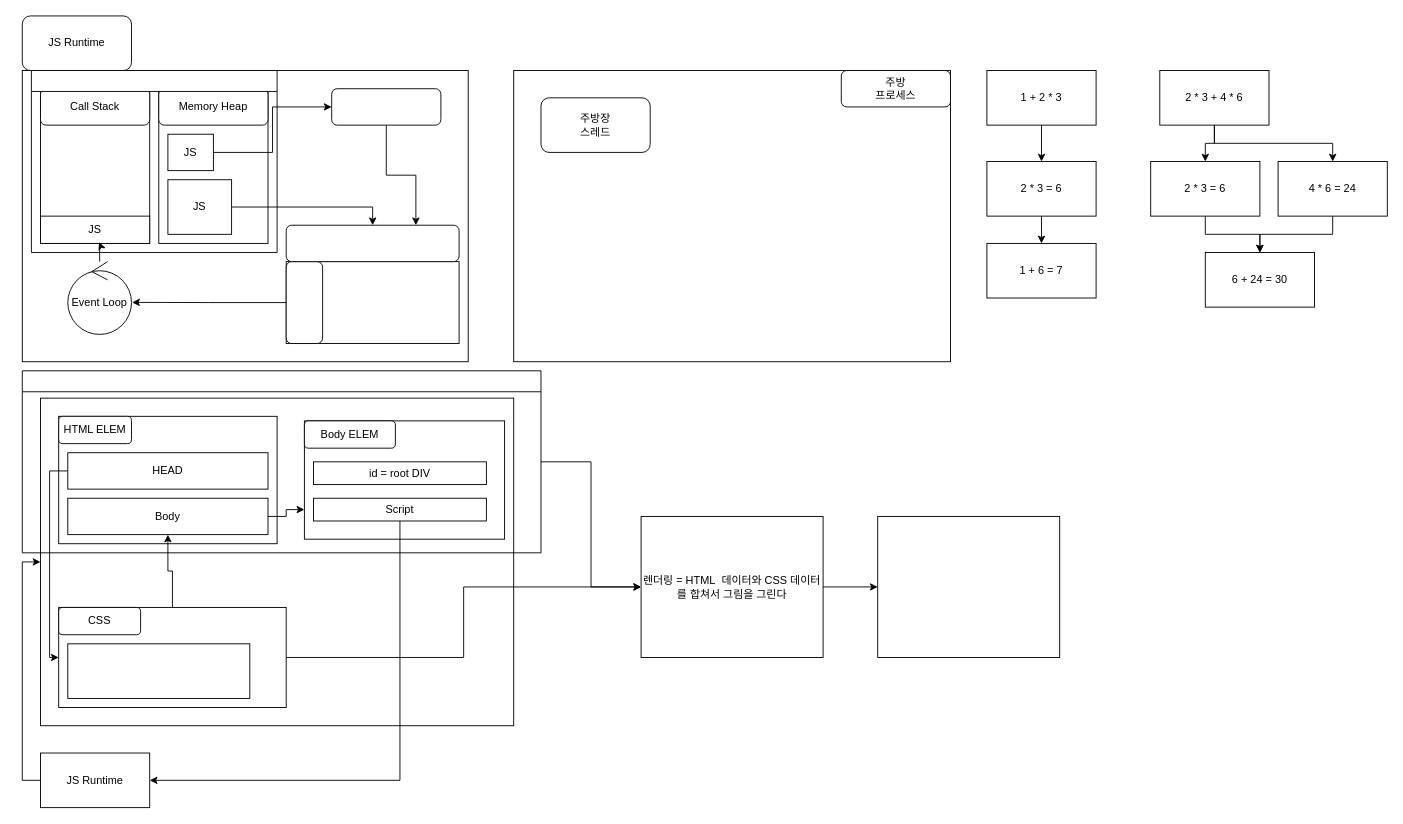
Image size: 1403x824. Some labels were removed from this diagram. Each missing label, with the centre of its shape:
#root: [158,670]
Anonymous: [304,302]
Callback Queue: [372,243]
DOM = HTML 구조를 데이터화 시킨다.: [281,461]
Javascript Engine: [153,161]
Web API: [386,106]
그림 출력한다: [968,586]
